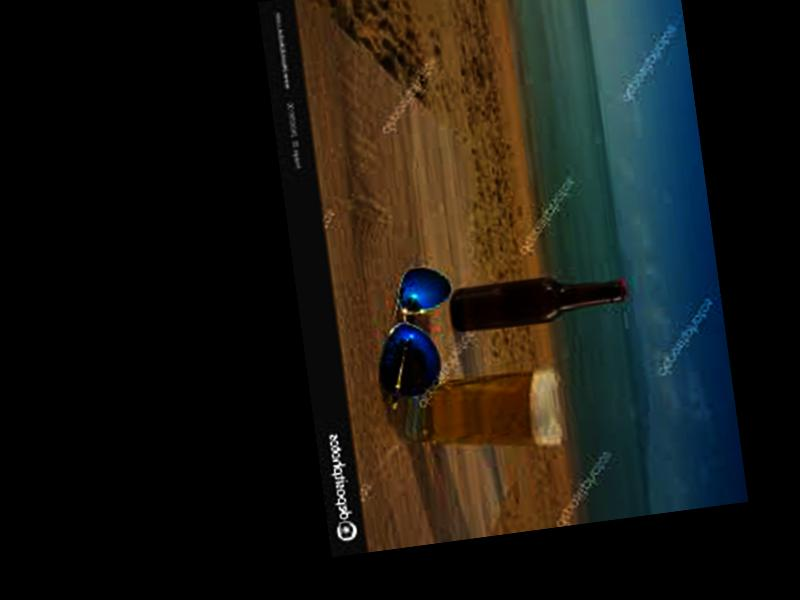Beer: (450, 266, 629, 334)
